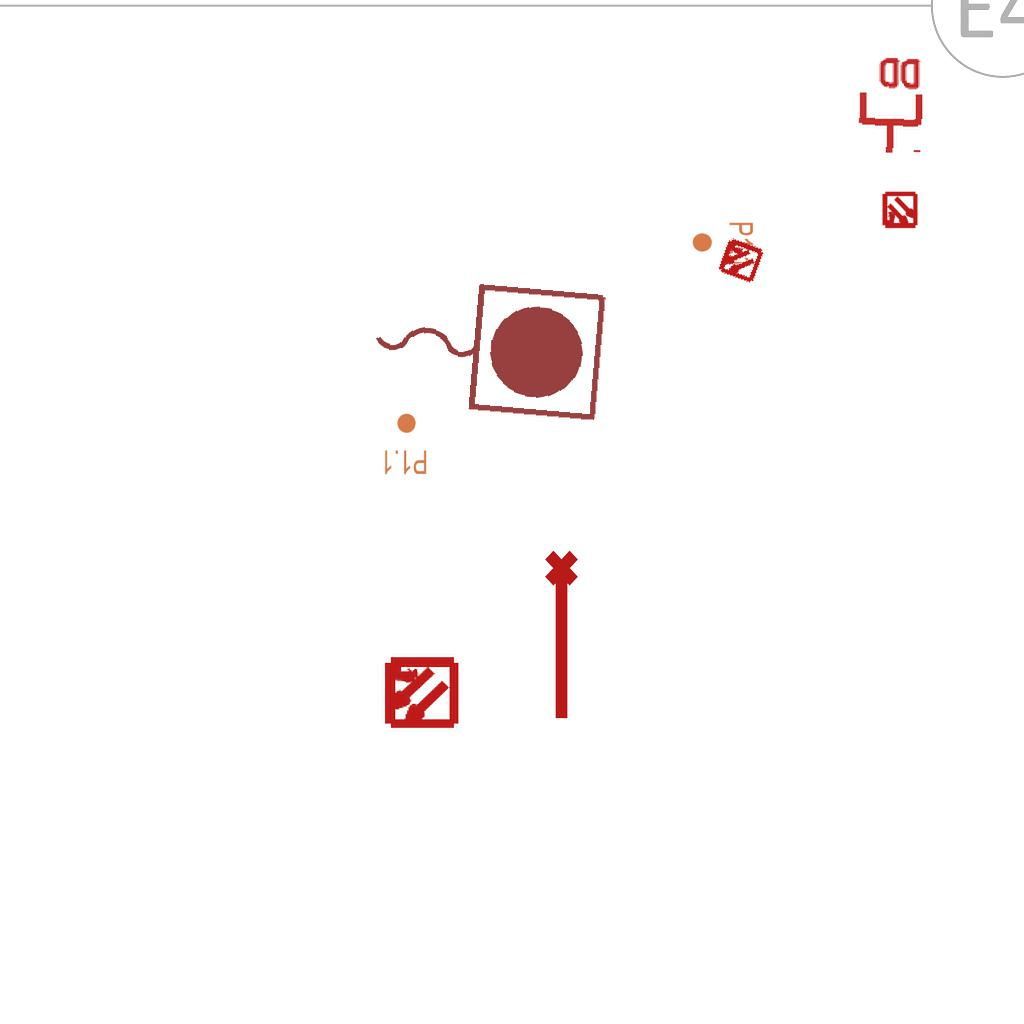ASR_Ansaugoeffnung: (541, 548, 587, 724)
Datenanschluss_zweifach: (853, 51, 926, 158)
Downlight_LED_Einbauleuchten_Flur: (382, 412, 428, 476), (691, 221, 755, 267)
OT_Multisensormelder_(Kombination_RMO_WMD): (363, 636, 476, 749), (704, 224, 776, 296), (872, 183, 928, 239)
Zugtaster: (359, 263, 615, 429)
